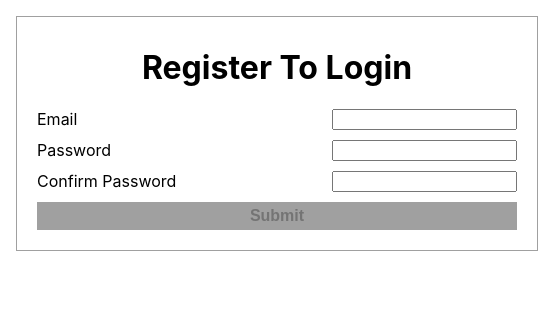
Test case: Register Page › handle errors and navigate › should show Confirm Password error message on invalid Confirm Password
expect the text "Passwords don't match." is not shown: met
Type "amiraliazimloo123@gmail.com" into the field labelled "Email" at (424, 119), box [332,109,517,130]
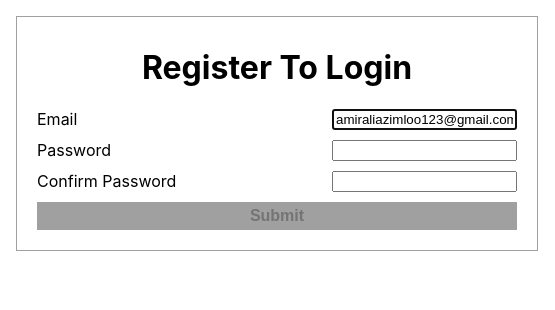
Type "1234567" into the password field labelled "Password" at (424, 150), box [332,140,517,161]
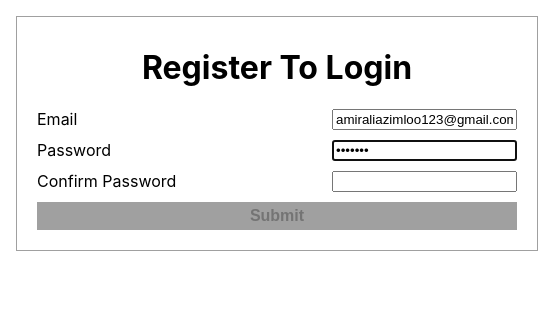
Type "12" into the password field labelled "Confirm Password" at (424, 181), box [332,171,517,192]
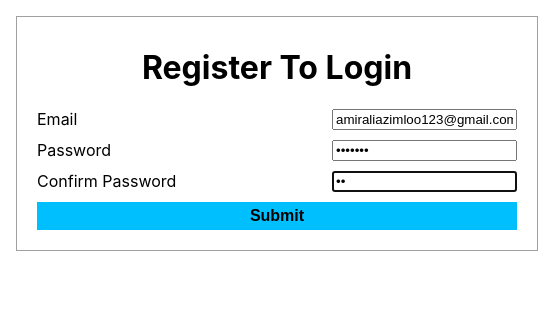
Click the button "Submit" at (277, 216), box [37,202,517,230]
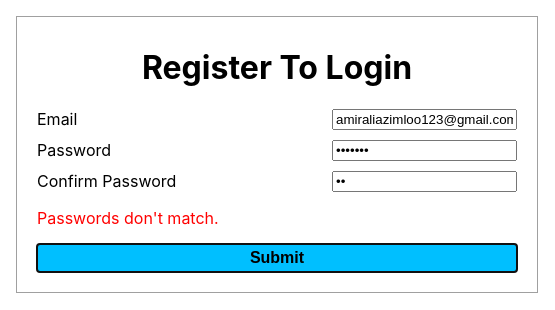
expect the text "Passwords don't match." is shown: met, box [37,208,219,228]
